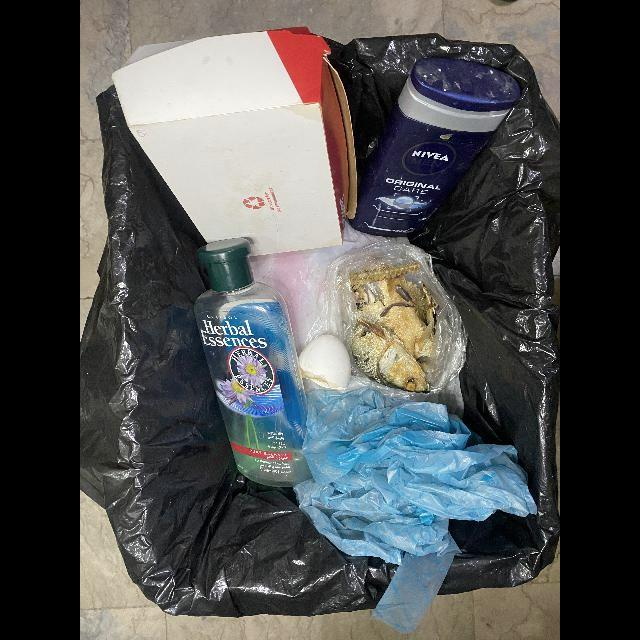cardboard: (111, 27, 358, 257)
left_over_food: (349, 263, 436, 393)
plastic_bag: (293, 388, 537, 635)
plastic_bottle: (349, 57, 522, 238), (194, 238, 313, 489)
